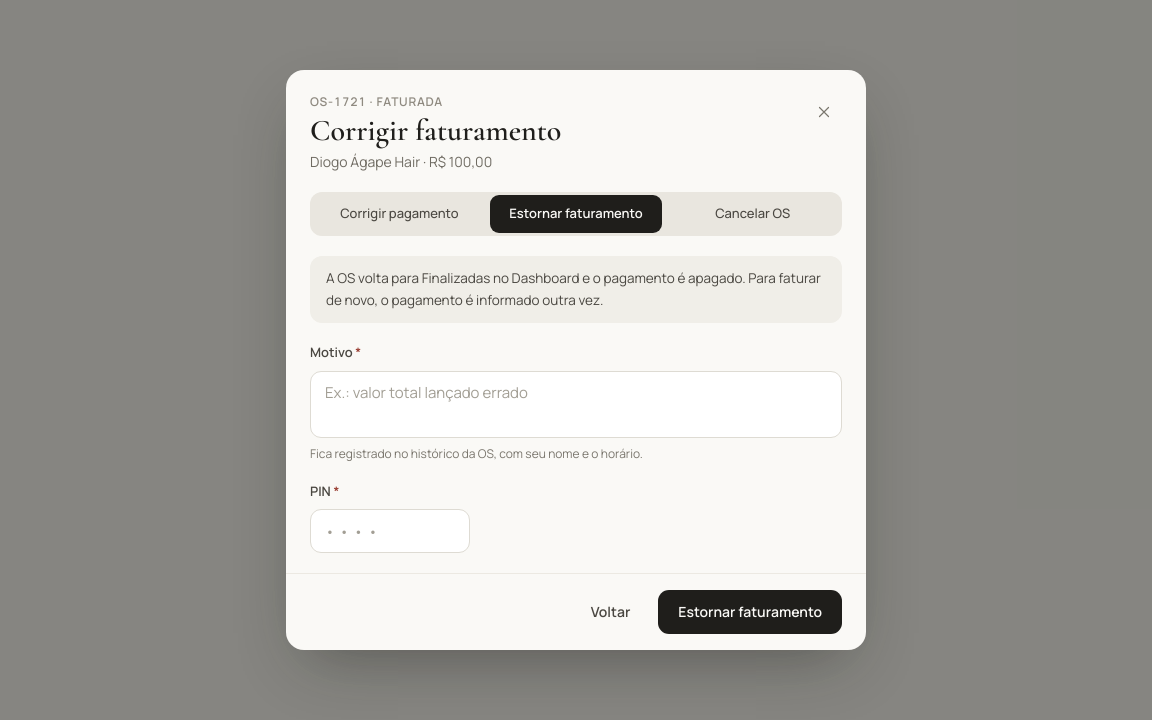
it: CorrecaoFaturamentoModal › mostra a mensagem do servidor quando a correção é recusada
The width and height of the screenshot is (1152, 720).
Type "0000" into the password field labelled "PIN *" at (390, 531), box [310,509,470,553]
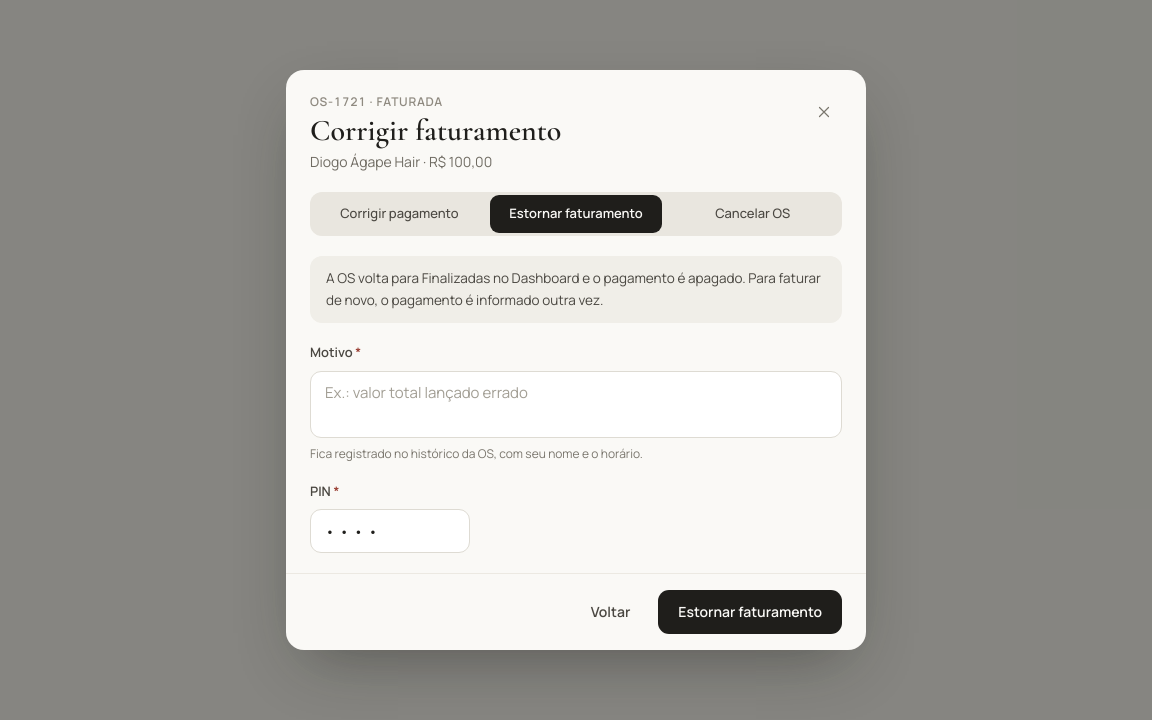
Type "Lançado errado" into the text box labelled "Motivo" at (576, 404), box [310,371,842,438]
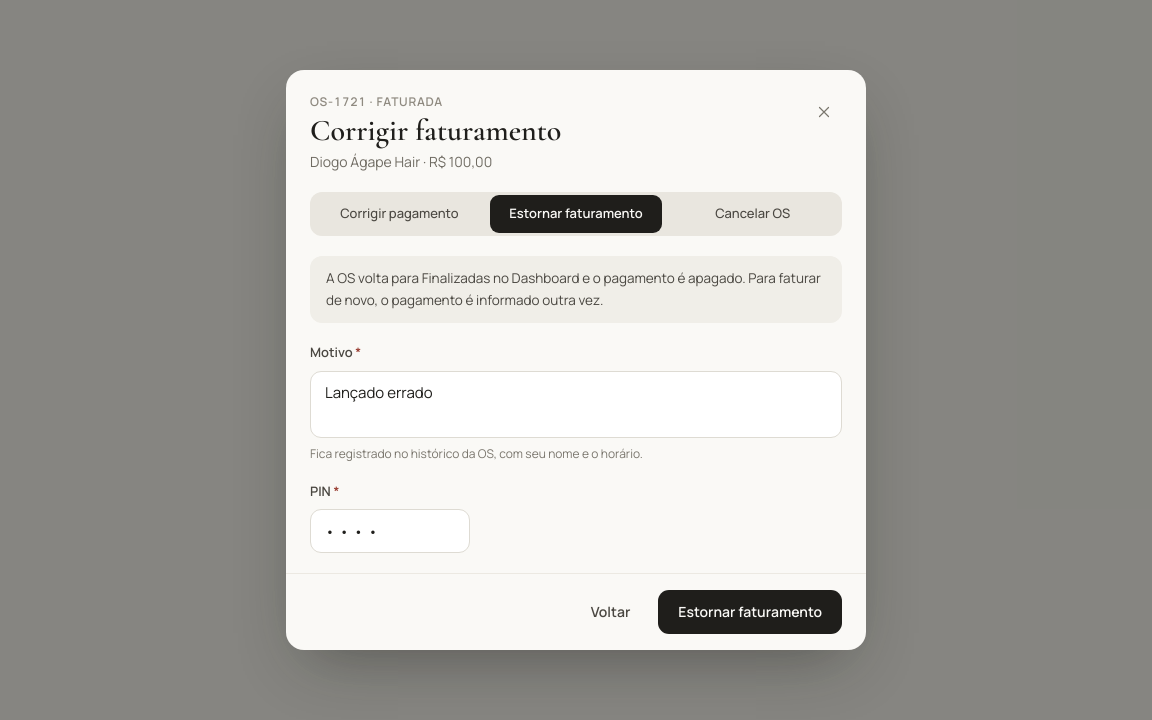
Submit the dialog, box [286,70,866,650]
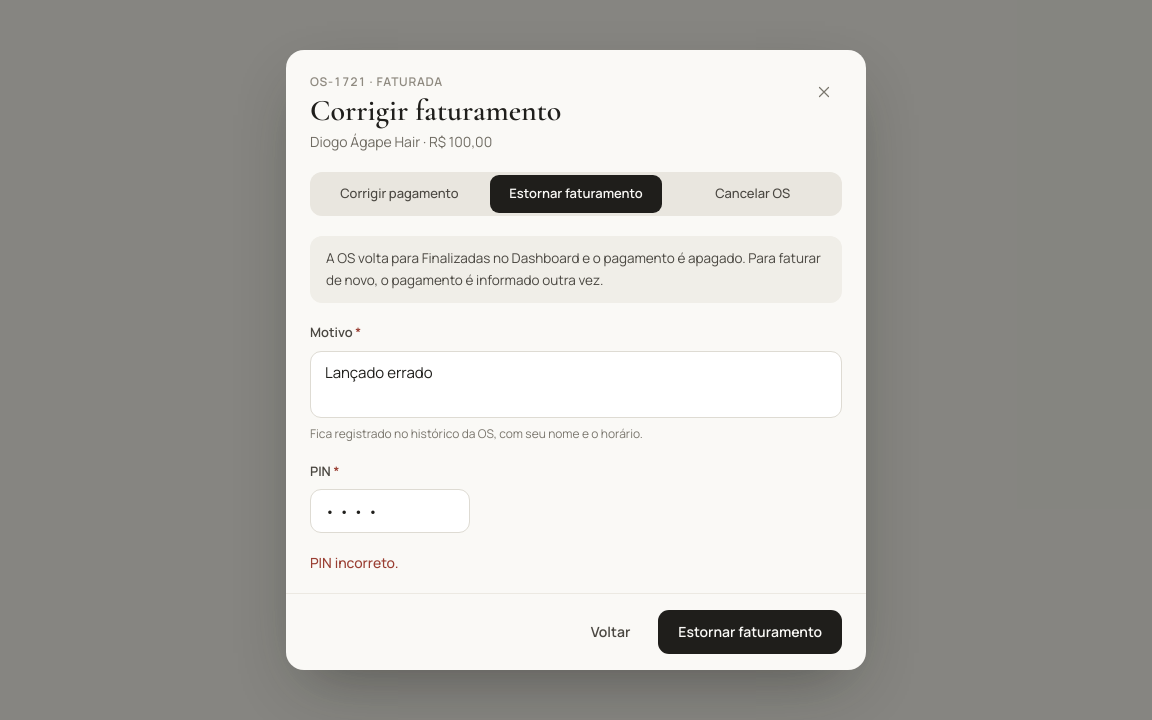
Check: the text "PIN incorreto." is shown, box [310,553,398,572]
